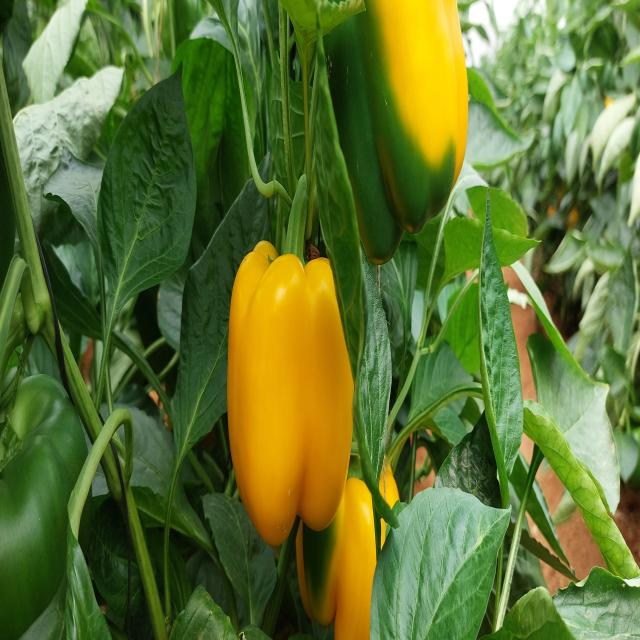GreenishYellow--Can-be-Harvested: (314, 9, 482, 258), (293, 448, 418, 640)
Yellow-Ready-to-Harvest: (214, 227, 364, 524)
